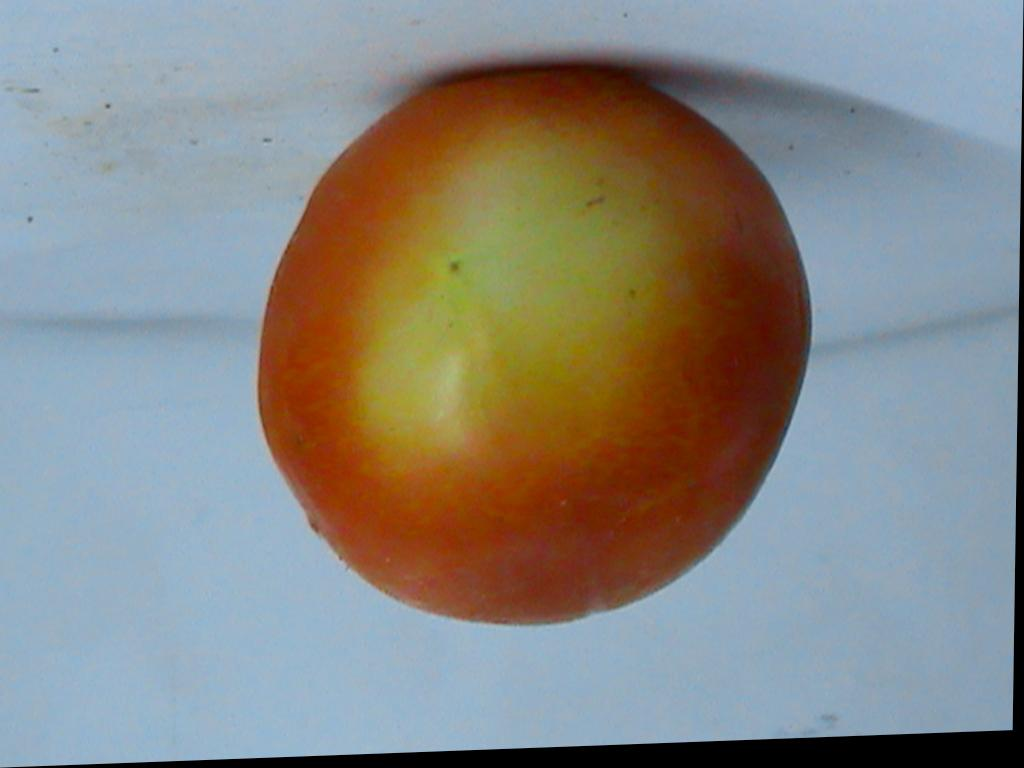bruise_discoloration: (359, 119, 678, 452)
tomato: (260, 71, 809, 623)
